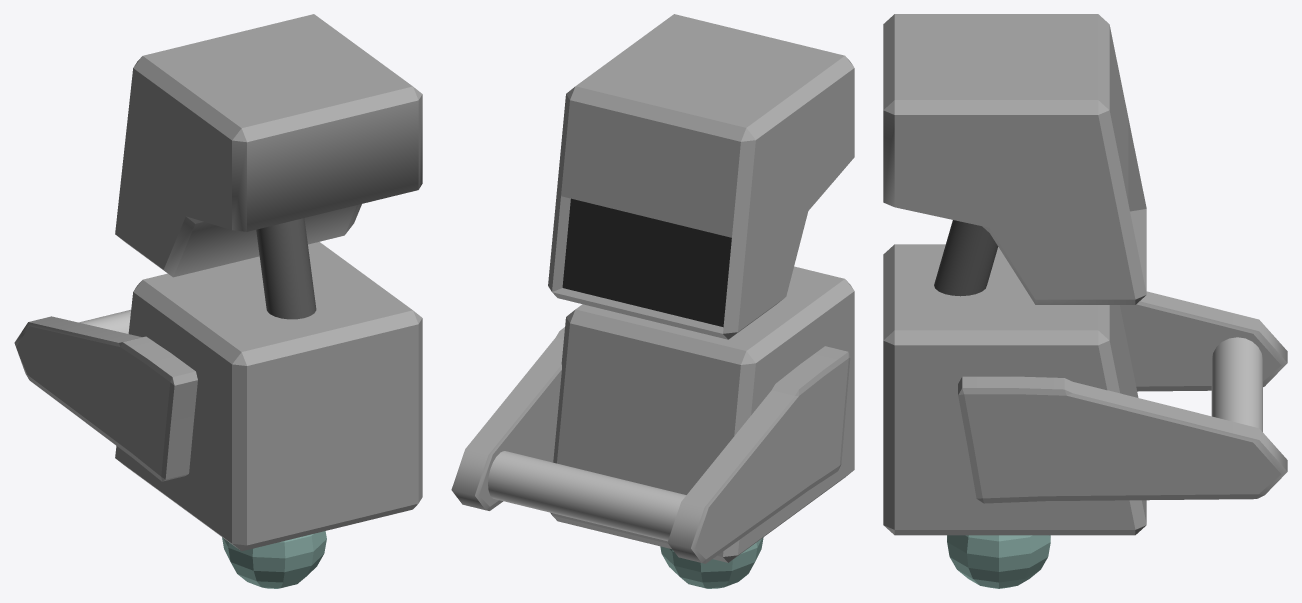
File: Robot 4.fbx
The picture shows the model from 3 angles, left to right: view 1: azimuth 30°, elevation 25°; view 2: azimuth 150°, elevation 25°; view 3: azimuth 270°, elevation 25°; orthographic projection. The views are drawn at different scales.
Parts seen in each view (by area): view 1: pCylinder269; view 2: pCylinder269; view 3: pCylinder269.
Boxes of the visible parts, <box> form: pCylinder269: <box>14,14,422,588</box>; pCylinder269: <box>451,14,854,588</box>; pCylinder269: <box>883,14,1287,588</box>.
Size of the model in its own units: 416 by 842 by 584.
